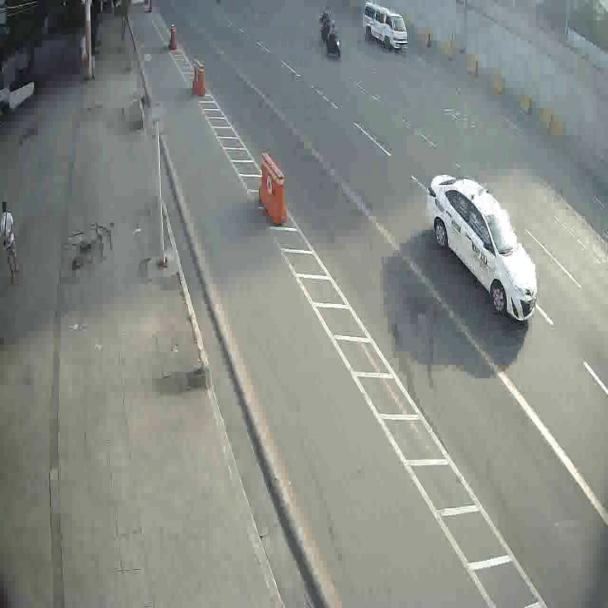motorcyclist: (323, 16, 342, 63)
vehicle: (427, 173, 542, 324), (366, 1, 410, 51)
